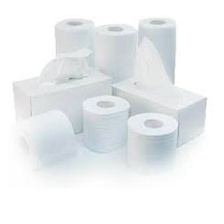book: (9, 65, 114, 136), (109, 78, 209, 150)
tissue: (7, 108, 77, 173), (123, 111, 181, 177), (79, 93, 132, 155), (89, 20, 140, 82), (136, 14, 178, 88), (128, 32, 176, 92), (33, 45, 97, 88), (51, 13, 98, 58)
